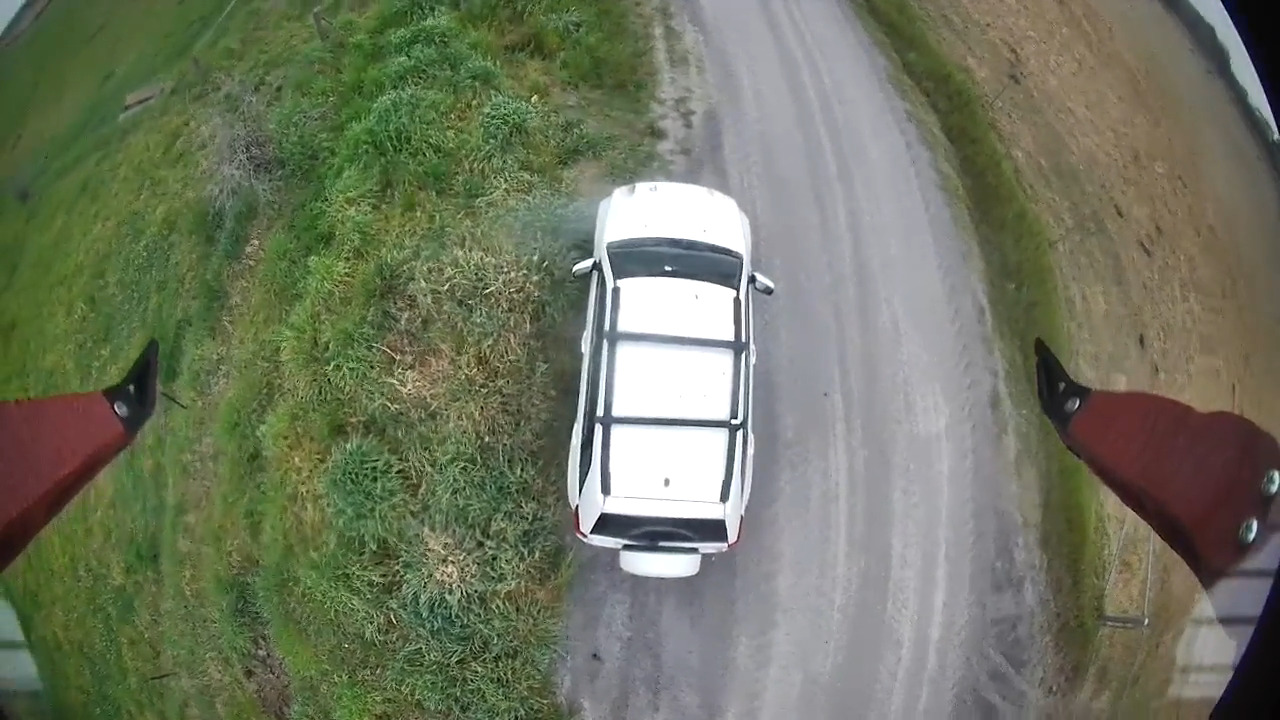Car: (566, 181, 774, 578)
